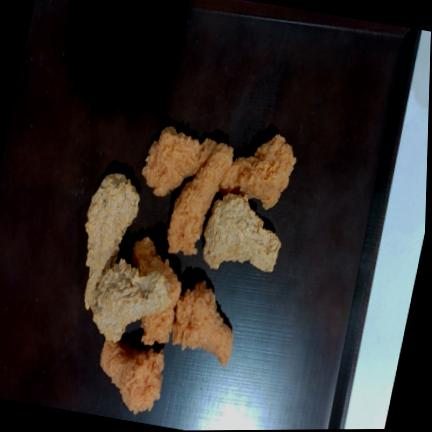chicken: (85, 174, 169, 342), (167, 143, 233, 254), (203, 193, 281, 271), (220, 134, 296, 209), (132, 237, 181, 345), (143, 126, 218, 196), (173, 281, 233, 366), (101, 341, 164, 414)
